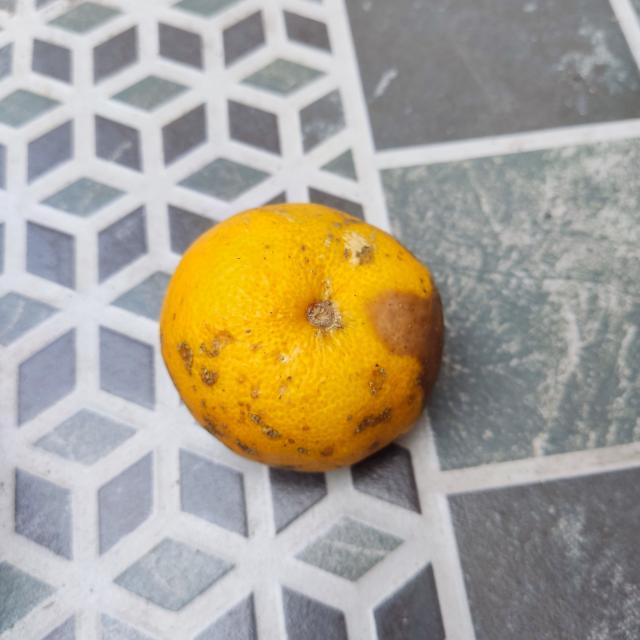orange: (156, 202, 448, 473)
